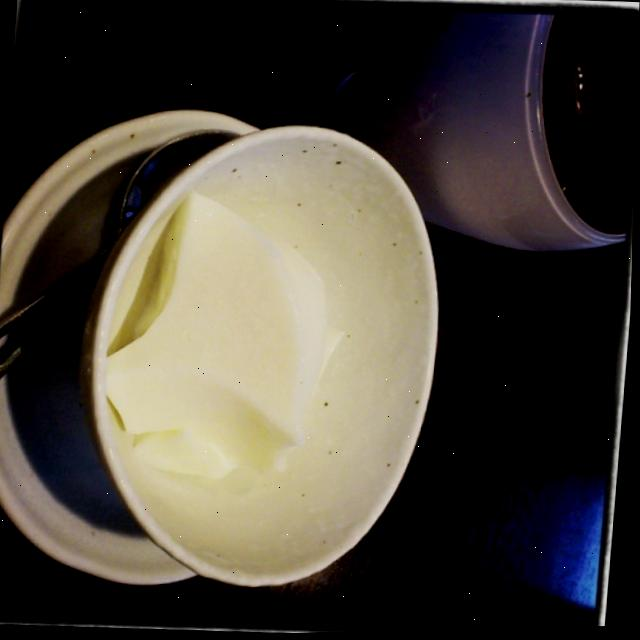面条主食: (7, 0, 613, 633)
